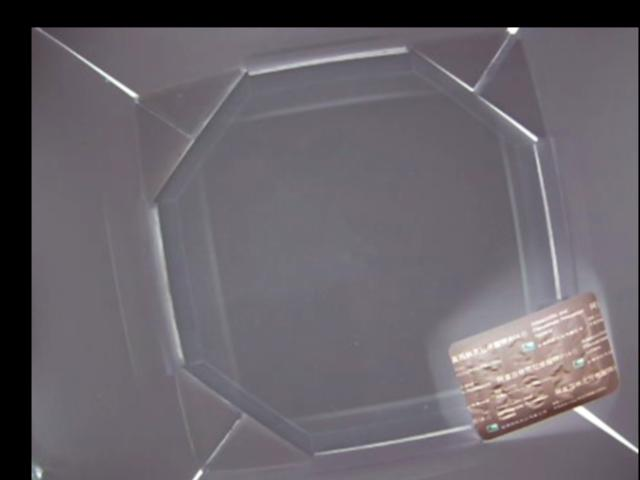Medicine: (446, 291, 620, 438)
